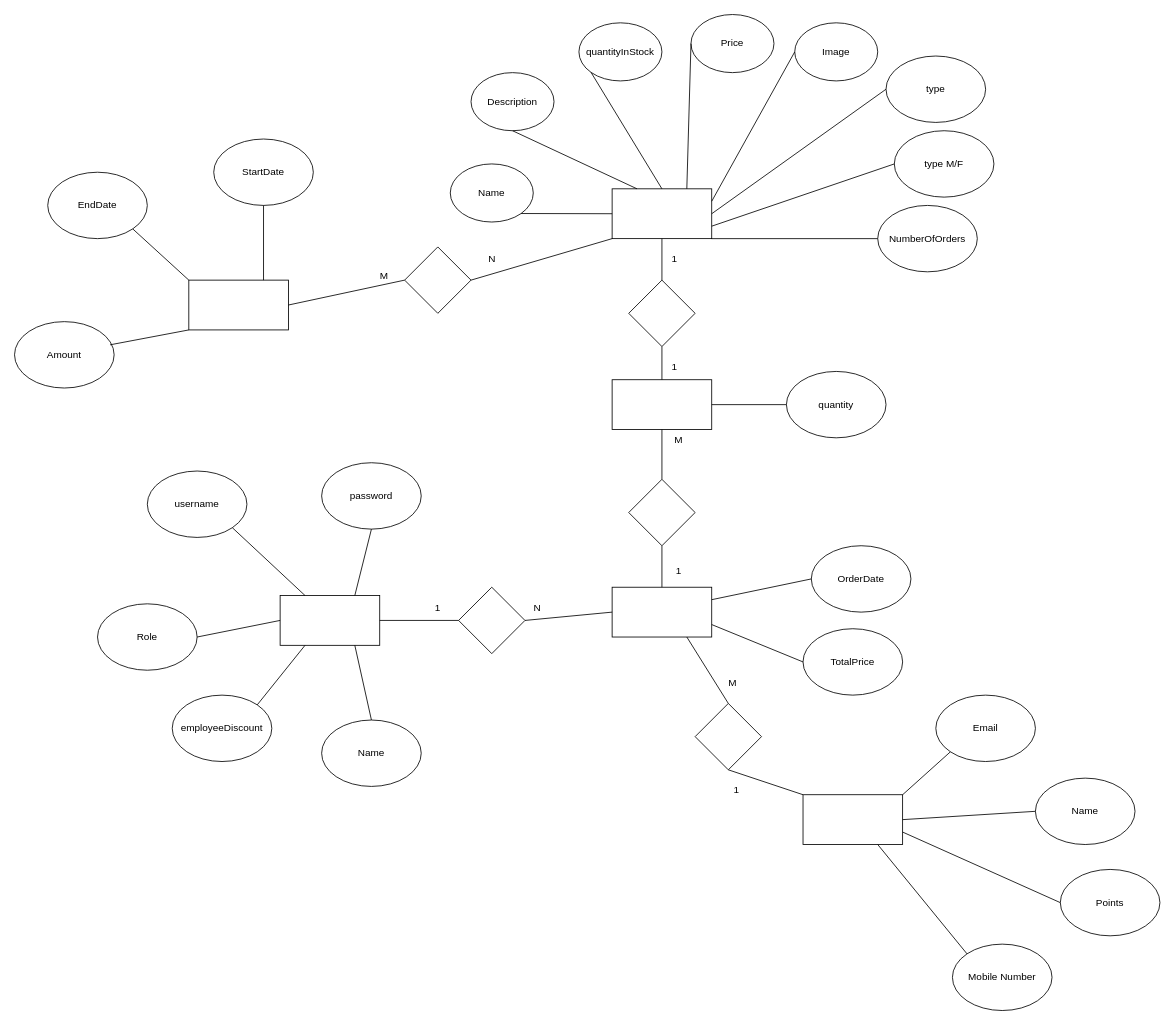
The diagram is 1174 pixels wide and 1025 high, and some of its shapes have lost their labels. Each missing label, with the box of its shape:
Customer: (802, 794, 903, 845)
Discount: (188, 279, 288, 330)
Employee: (279, 595, 380, 645)
Item: (611, 188, 712, 239)
ItemInOrder: (611, 379, 712, 430)
Order: (611, 586, 712, 637)
